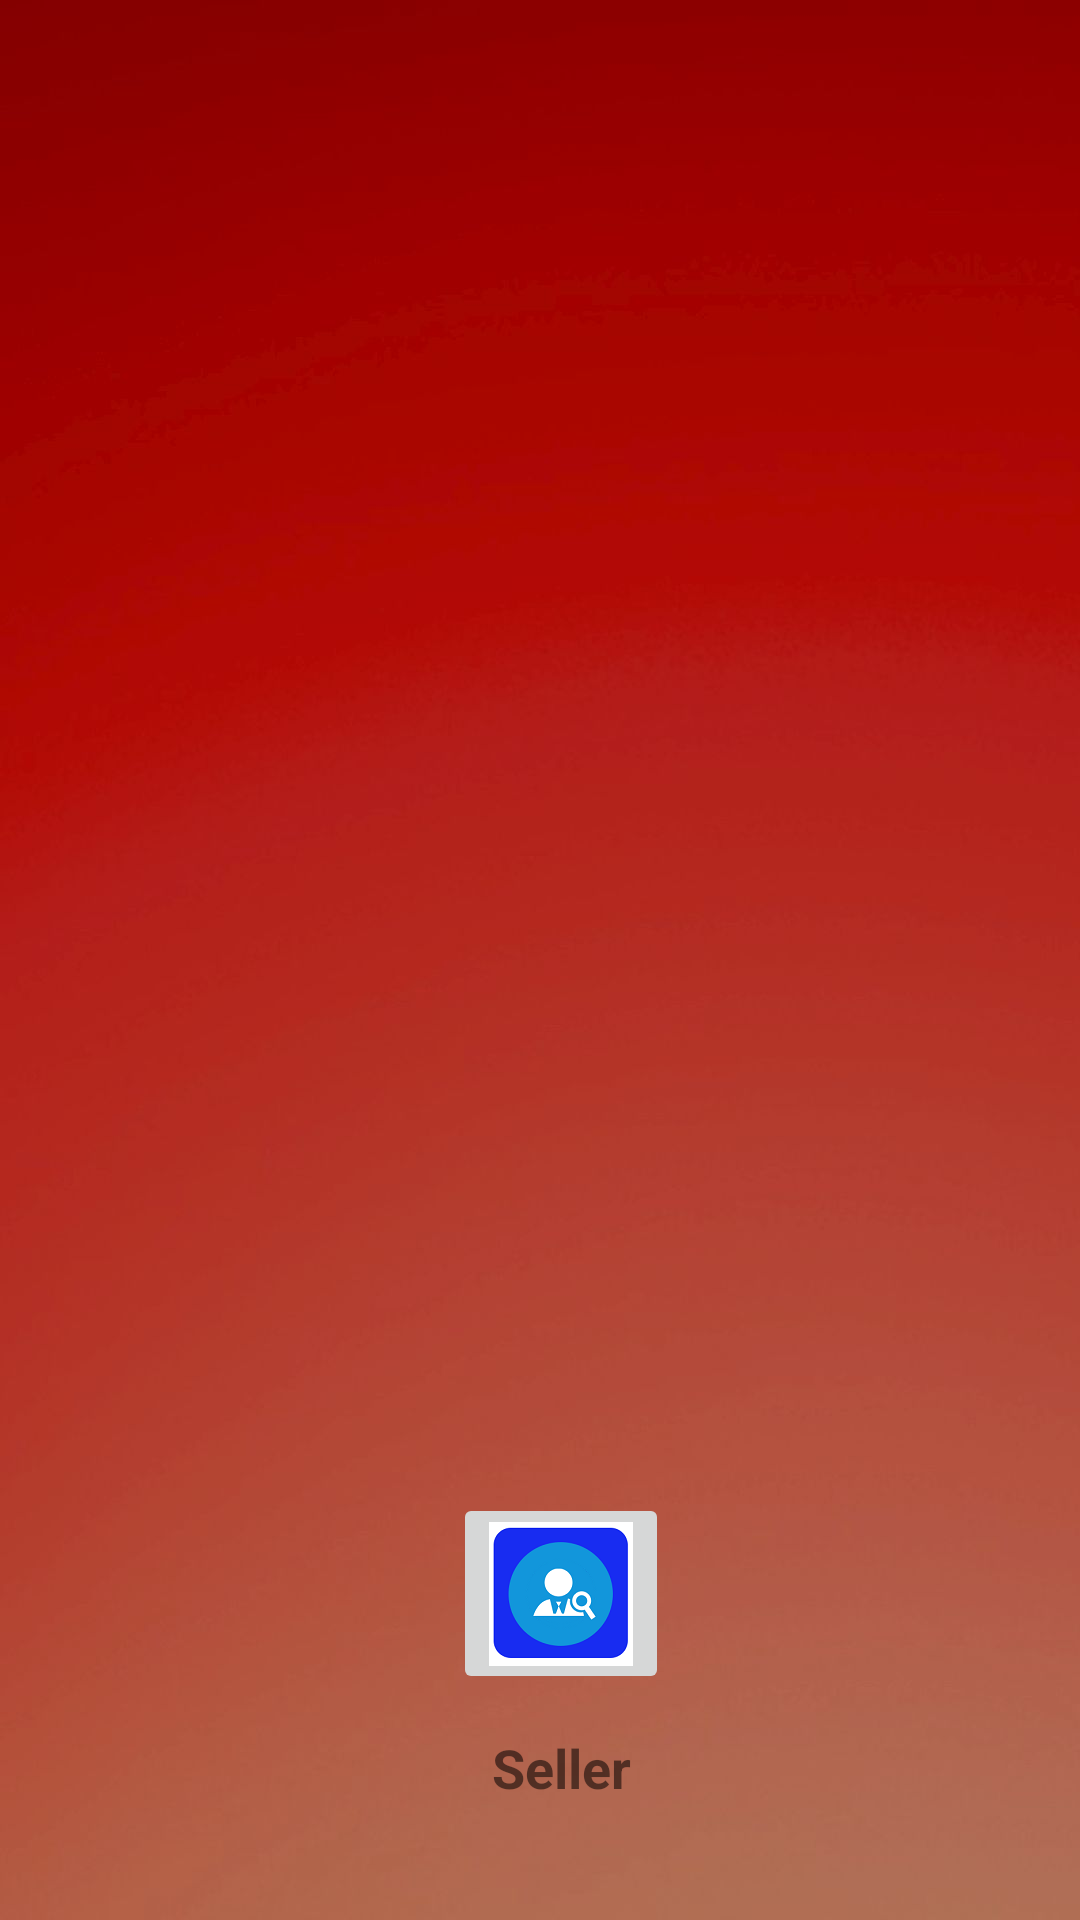

Icons on this 1080px×1920px Android screen, each with the point to tap as (x=x, y=y):
contact: (x=561, y=1593)
